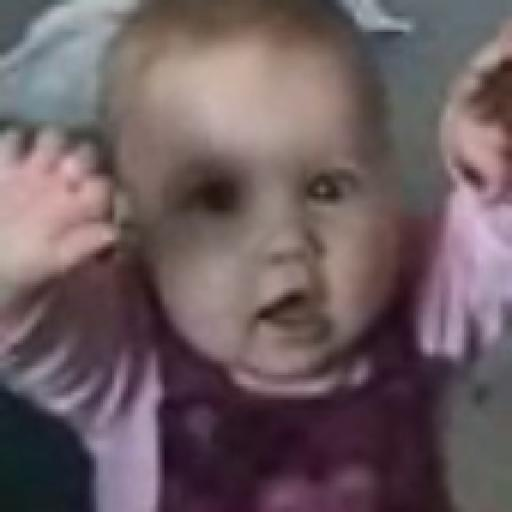Autism: (94, 3, 462, 404)
